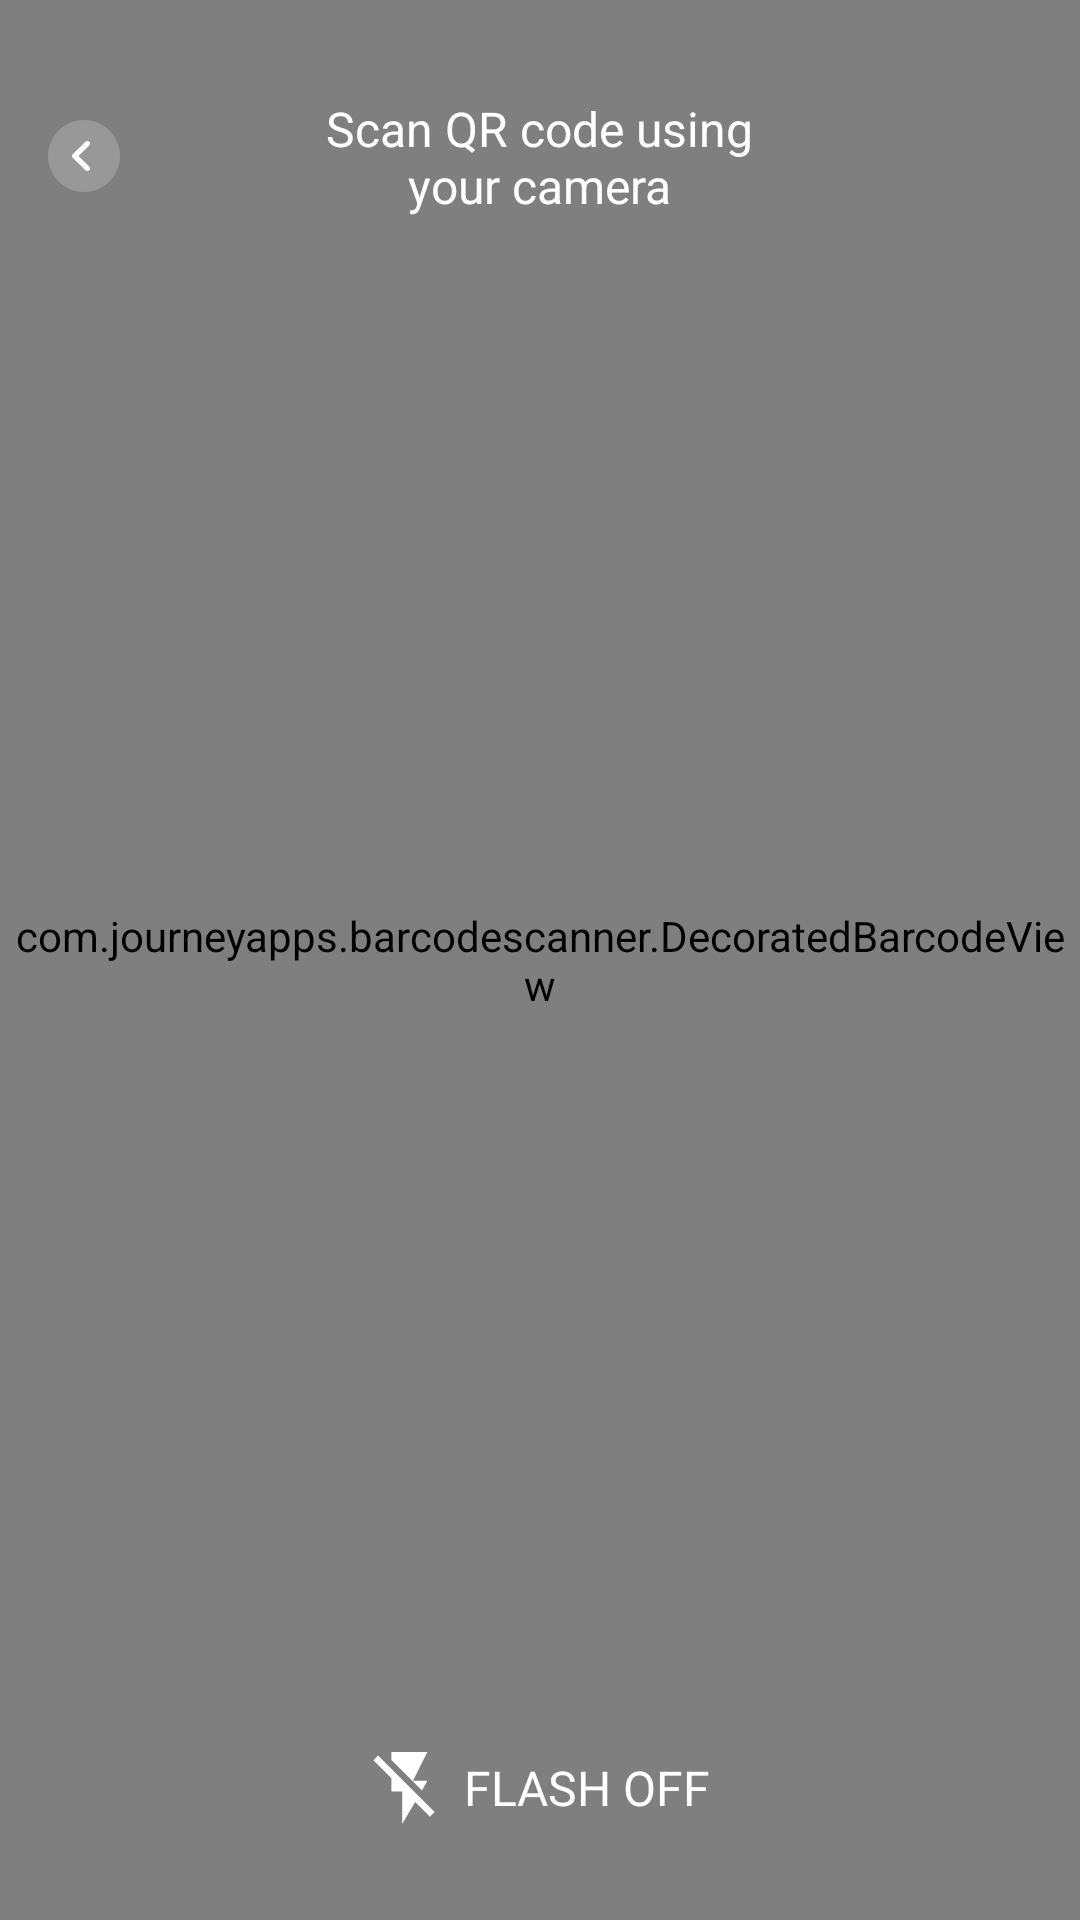

Point at icon controls on the screen. Image size 1080×1920, points as (x=x, y=y).
back: (x=84, y=156)
